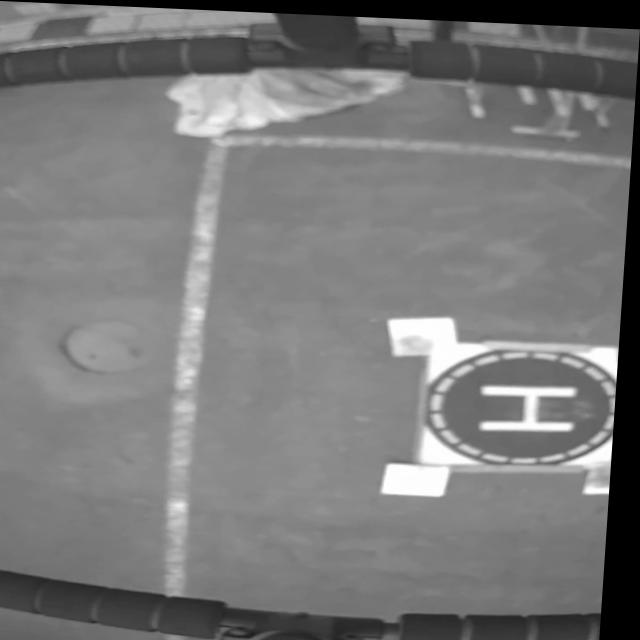Helipad: (483, 378, 582, 428)
